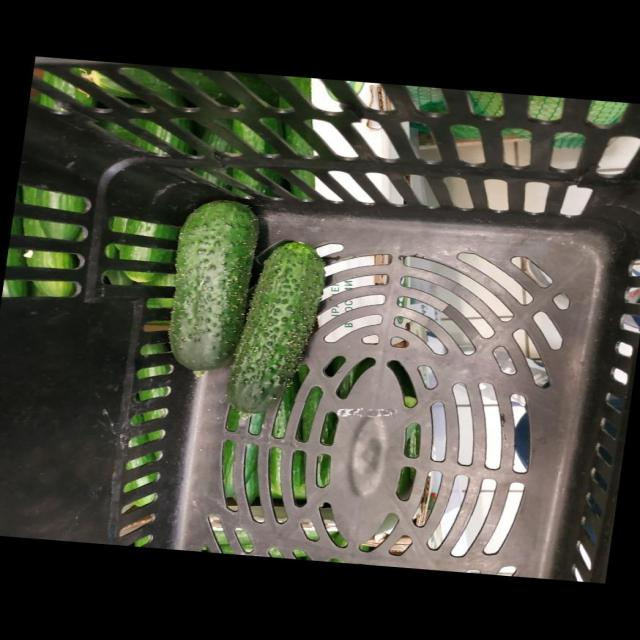cucumber: (127, 209, 394, 618), (87, 181, 281, 553)
